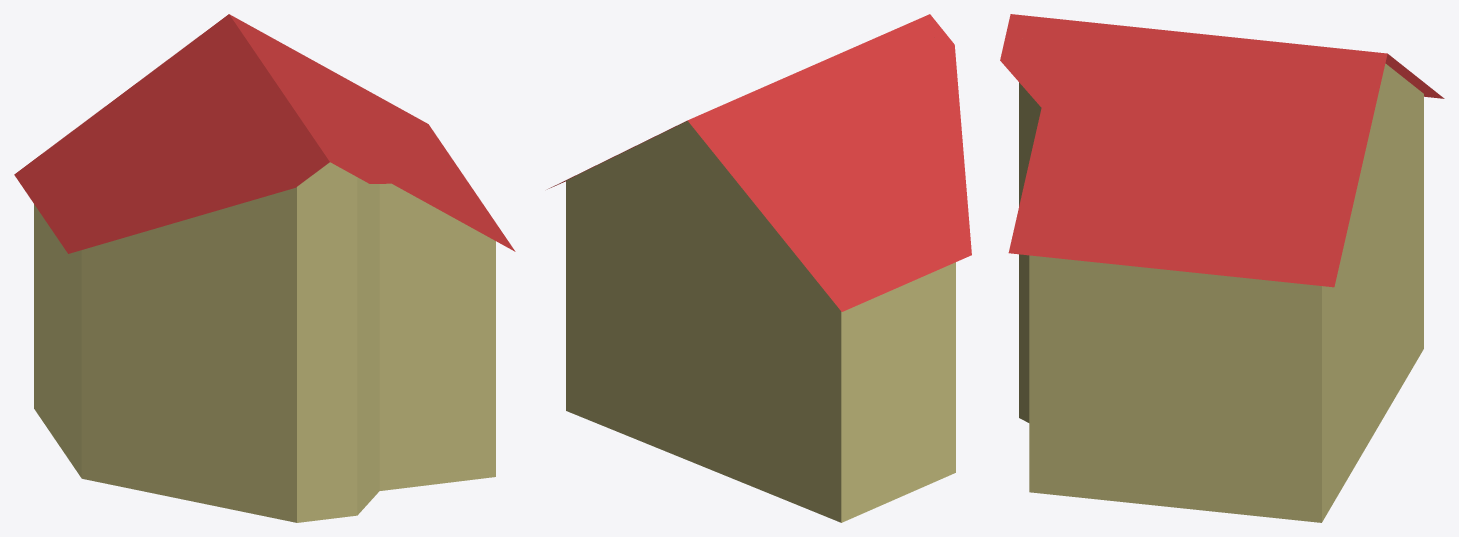
3 views of the same model, side by side, from view 1: azimuth 30°, elevation 25°; view 2: azimuth 150°, elevation 25°; view 3: azimuth 270°, elevation 25° (orthographic). The views are drawn at different scales.
Size of the model in its own units: 14.39 by 12.9 by 12.4.
